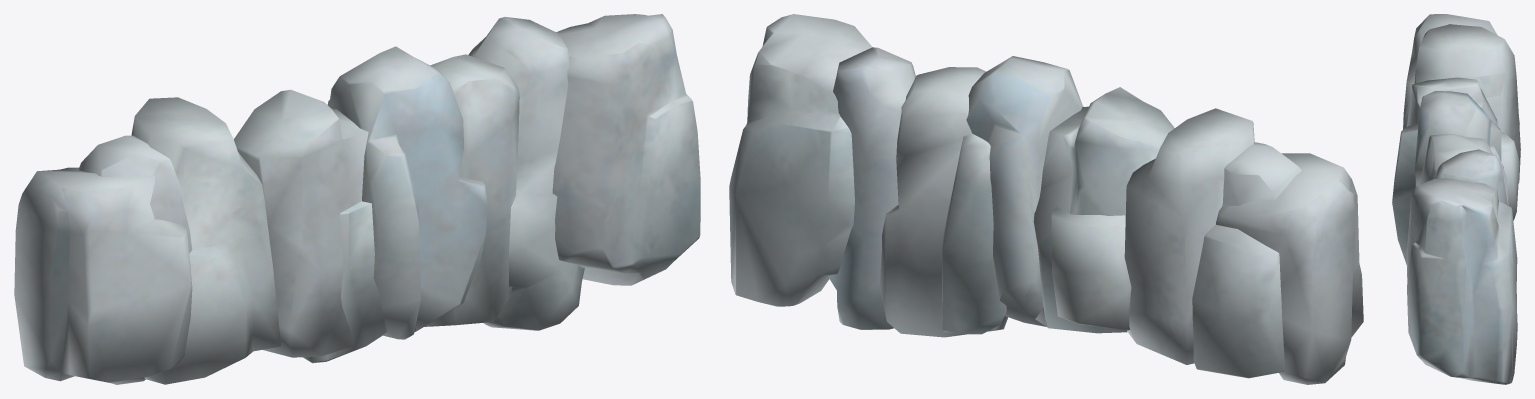
The model's file is P_RockSpire_RockClumpC03.obj.
3 renders of one model, left to right at view 1: azimuth 30°, elevation 25°; view 2: azimuth 150°, elevation 25°; view 3: azimuth 270°, elevation 25°, orthographic. The views are drawn at different scales.
Size of the model in its own units: 43.13 by 19.09 by 10.76.
